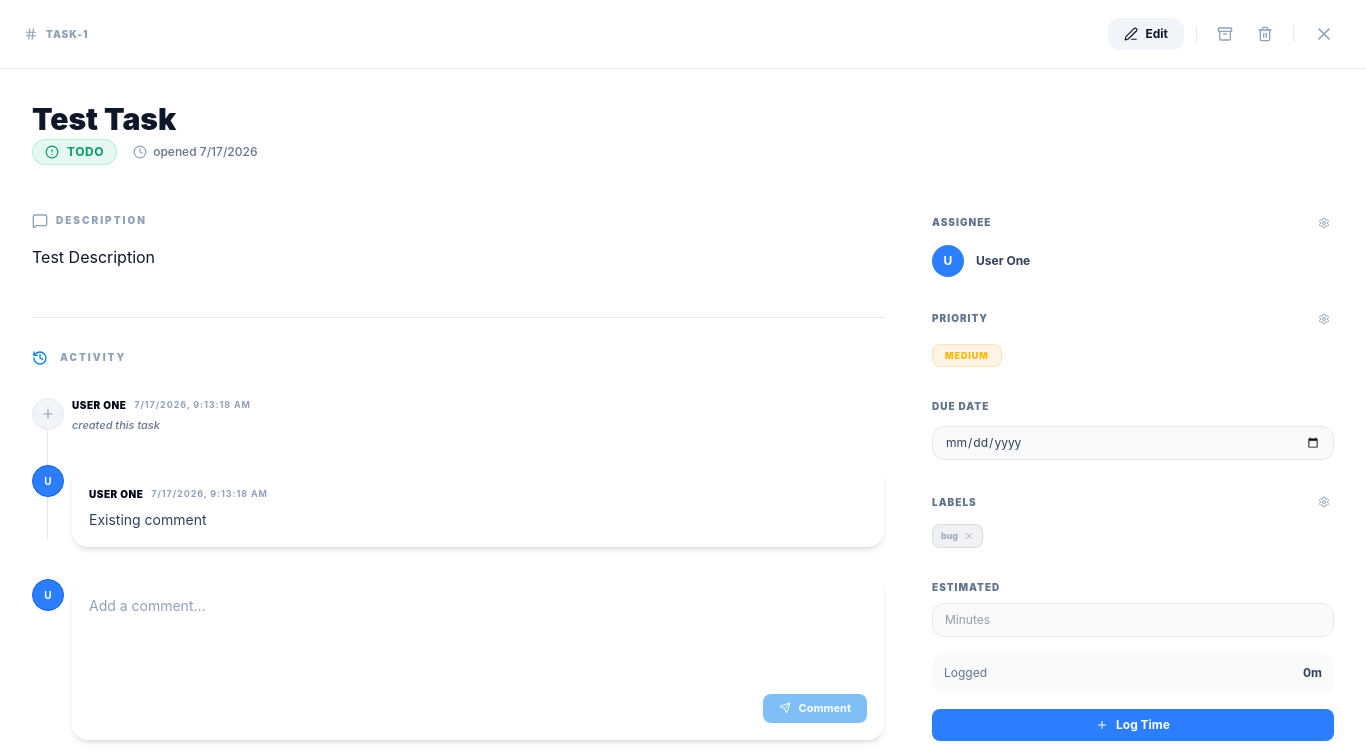
Test: TaskViewer › Title Inline Editing › should enter edit mode when clicking title
This screenshot has width=1366, height=755.
# Click on the title
Click the heading "Test Task" at (104, 119), box left=32, top=101, right=176, bottom=137
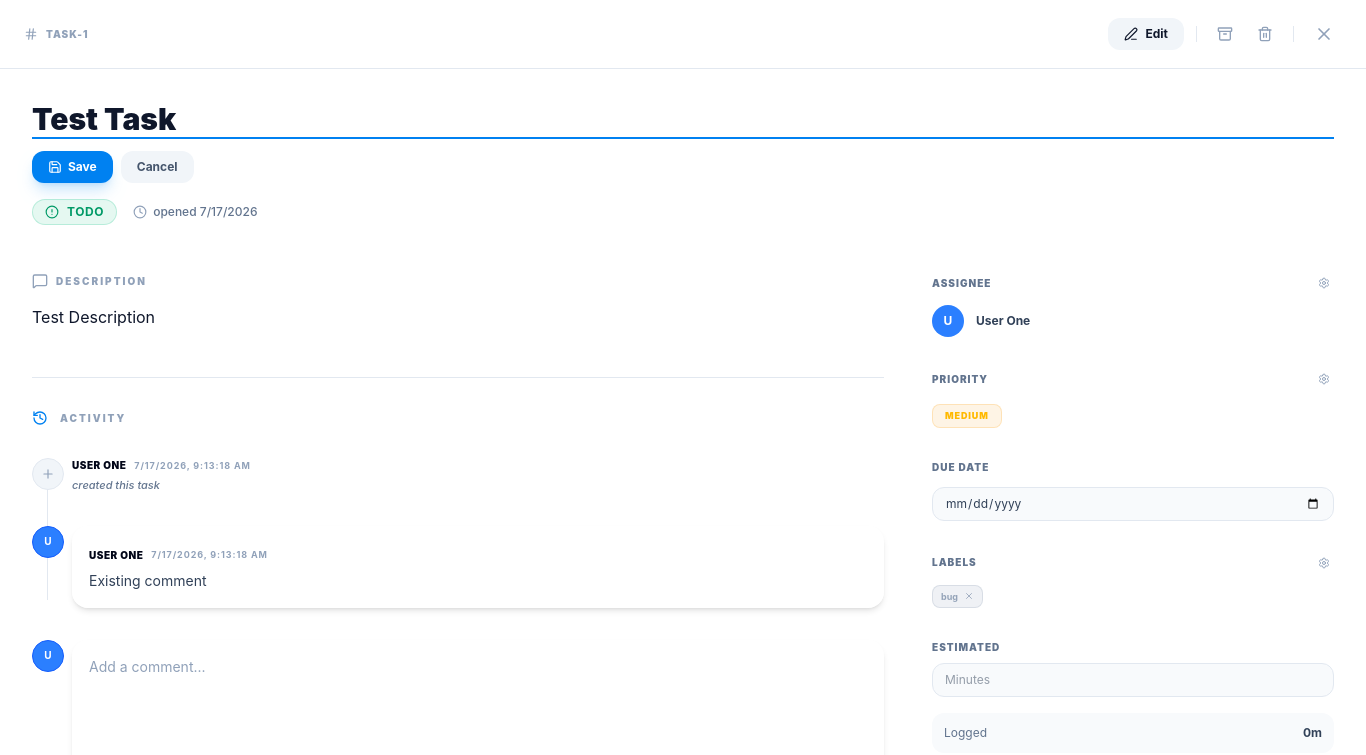
Check: the button "Save" is shown, box left=32, top=151, right=113, bottom=183
Check: the button "Cancel" is shown, box left=121, top=151, right=194, bottom=183
